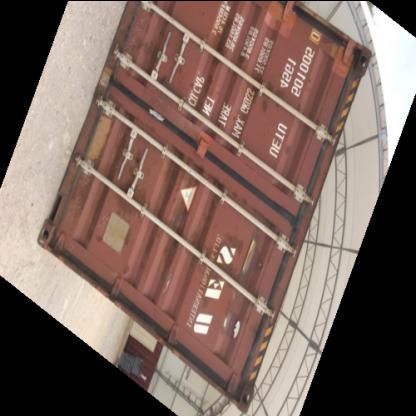Damage: (156, 186, 196, 298), (219, 268, 262, 358), (200, 228, 250, 304), (217, 29, 257, 84), (113, 178, 150, 224), (248, 82, 284, 118)
